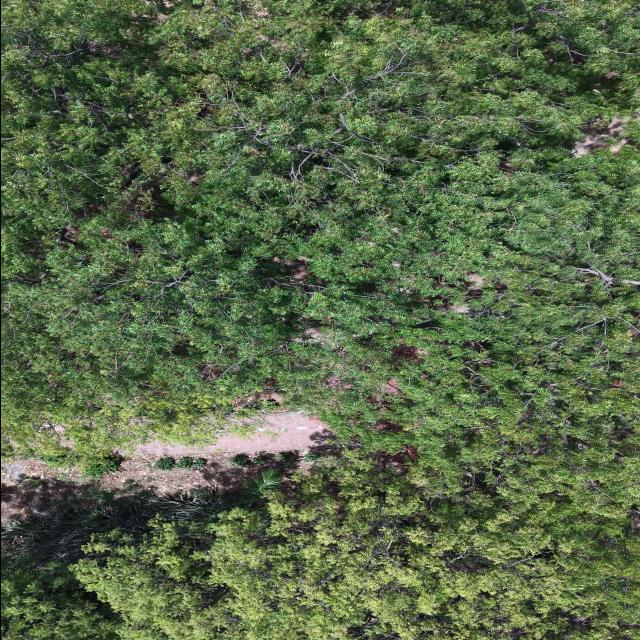DRY_AREA: (1, 412, 333, 521), (1, 450, 310, 521), (134, 412, 333, 455)
VEGETATION_TREE: (1, 0, 639, 639), (1, 0, 639, 508), (4, 452, 639, 639), (73, 453, 639, 639), (1, 490, 248, 639), (1, 489, 251, 567), (1, 559, 118, 639), (37, 454, 121, 479), (245, 469, 282, 498), (79, 455, 121, 479), (153, 457, 206, 470), (228, 453, 252, 468), (177, 457, 206, 469), (20, 477, 46, 490), (153, 457, 176, 471), (177, 457, 195, 469), (275, 452, 294, 462), (190, 458, 206, 469), (304, 451, 321, 461), (251, 456, 268, 464)
